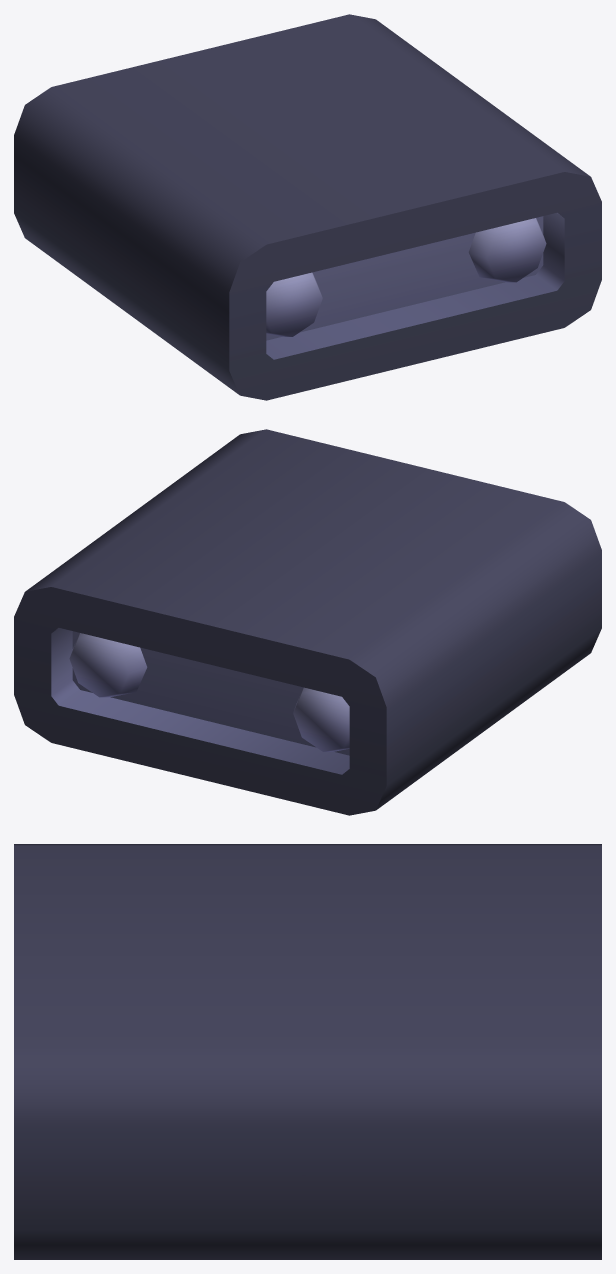
The model's file is conveyor.glb.
The picture shows the model from 3 angles, top to bottom: view 1: azimuth 30°, elevation 25°; view 2: azimuth 150°, elevation 25°; view 3: azimuth 270°, elevation 25°; orthographic projection. The views are drawn at different scales.
Visible parts, largest first — view 1: conveyor; view 2: conveyor; view 3: conveyor.
Part boxes in pixels (box(x1,y1,x2,y2)): conveyor: box(14, 14, 601, 400); conveyor: box(14, 429, 601, 815); conveyor: box(14, 844, 601, 1259).
Bounding box in the file's own units: 1 × 0.3999 × 1.
Materials: 1 (1 with a texture image).
